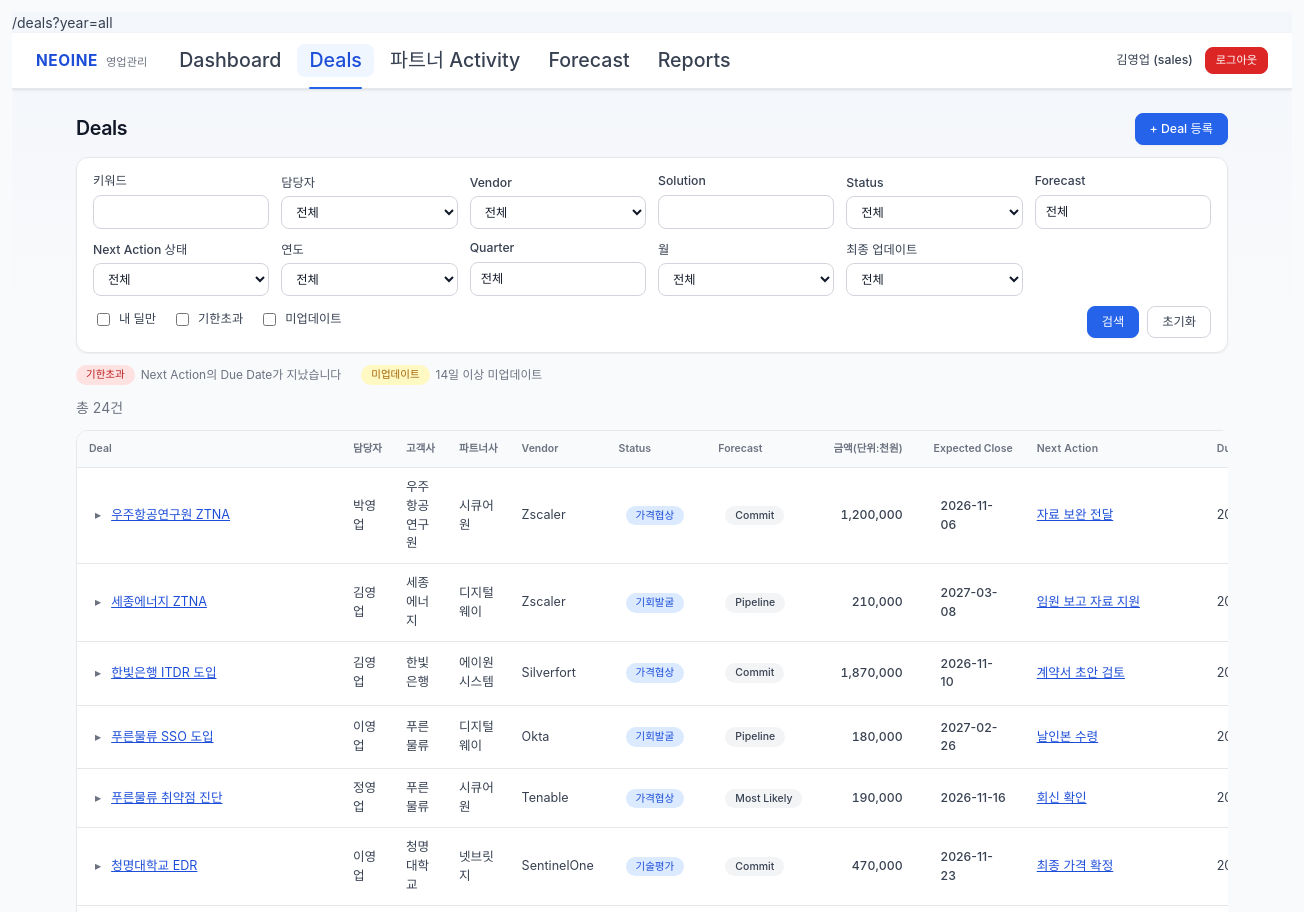
it: 필터와 정렬 (T-LIST-05~09) › filters by vendor, status and forecast
The width and height of the screenshot is (1304, 912).
Expected: the row "한빛은행 ITDR 도입" is shown, top-left (77, 642), bottom-right (1228, 706)
Step 1. Select "Silverfort" in the dropdown labelled "Vendor" → (558, 213), box top-left (470, 196), bottom-right (646, 229)
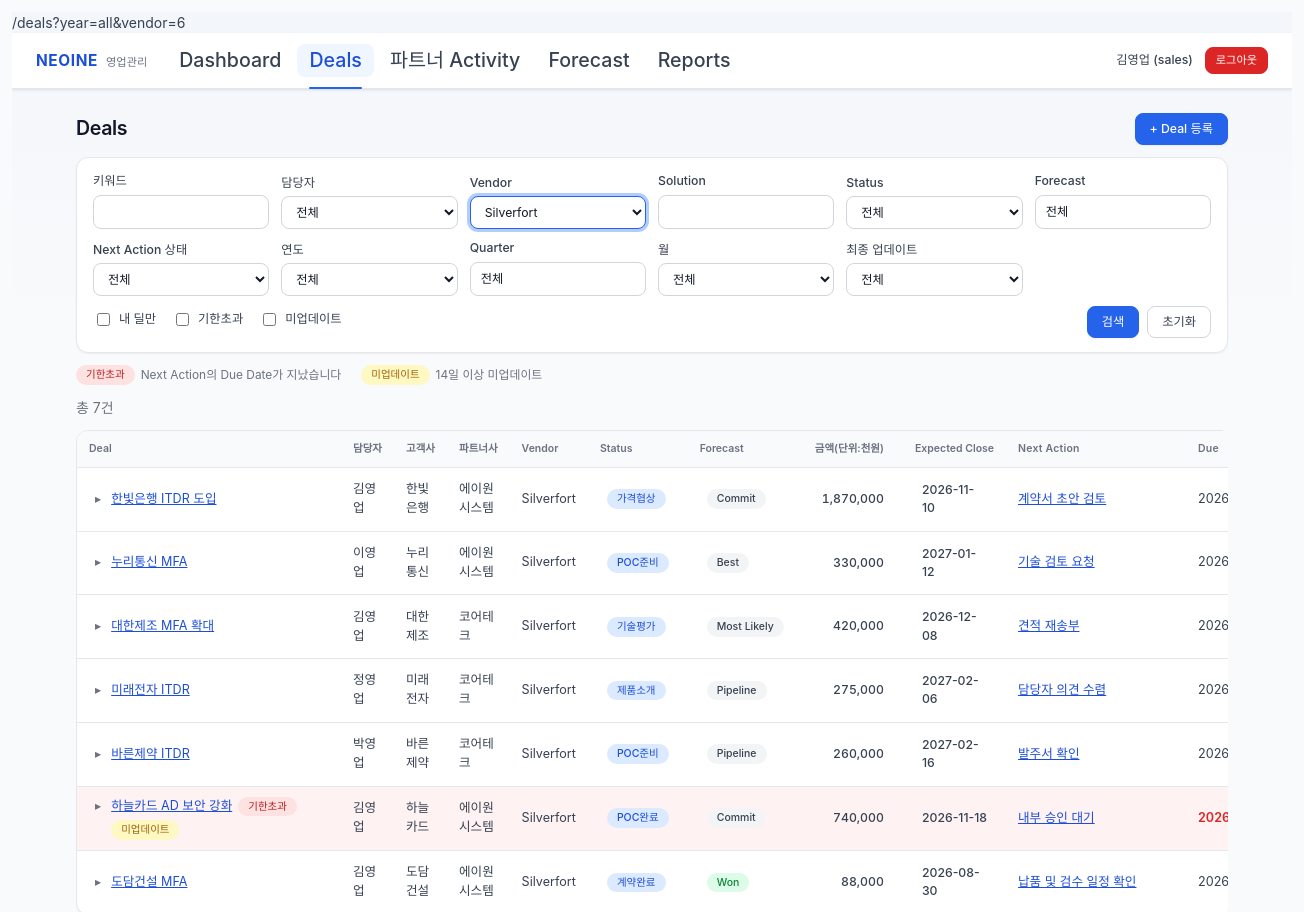
Step 2. Select "계약완료" in the dropdown labelled "Status" → (934, 213), box top-left (846, 196), bottom-right (1023, 229)
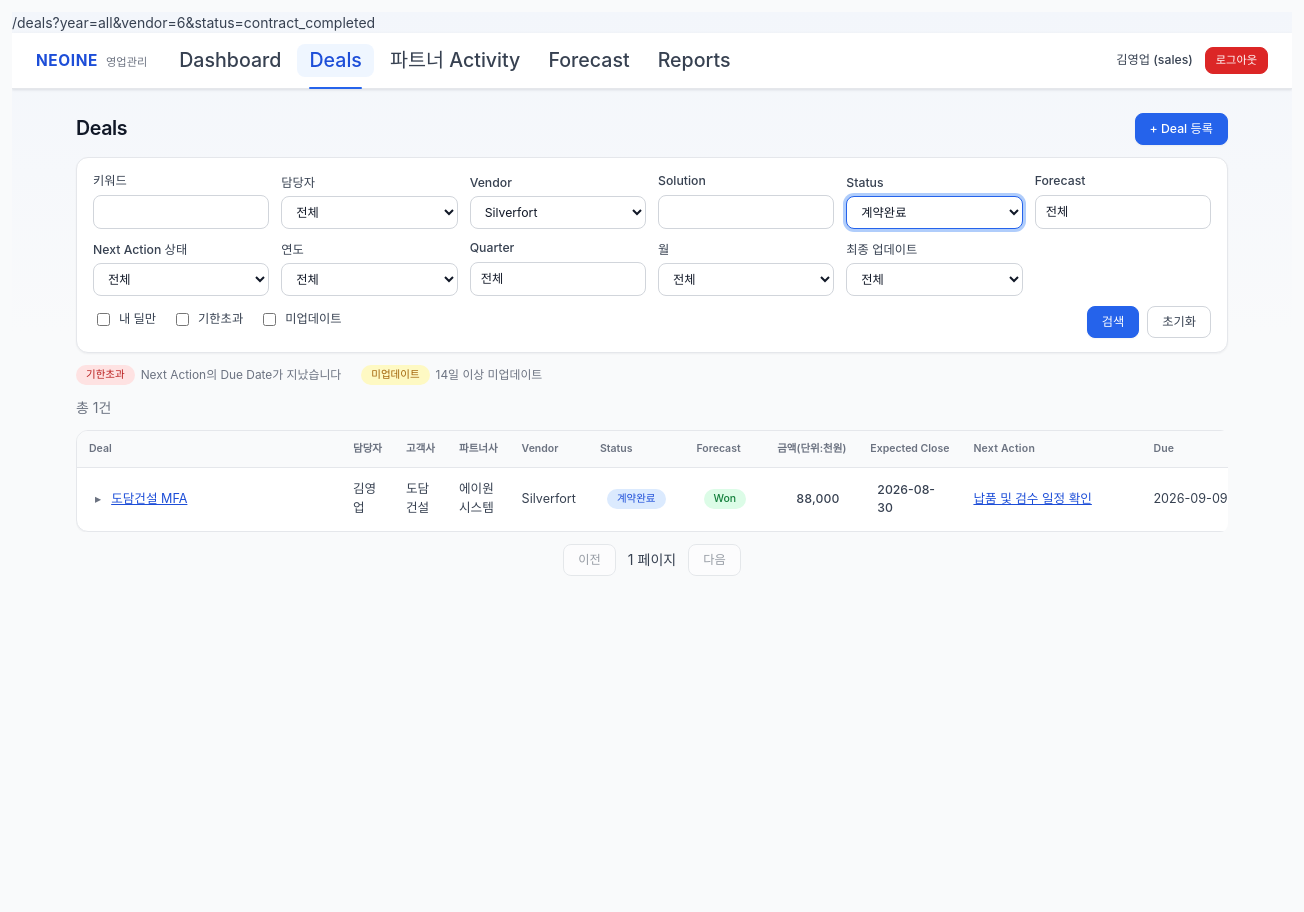
Now the link "도담건설 MFA" is shown, box top-left (111, 490), bottom-right (188, 509)
Now the text with test id "location" shows "status=contract_completed", box top-left (12, 14), bottom-right (375, 31)
Step 3. Select "전체" in the dropdown labelled "Status" → (934, 213), box top-left (846, 196), bottom-right (1023, 229)
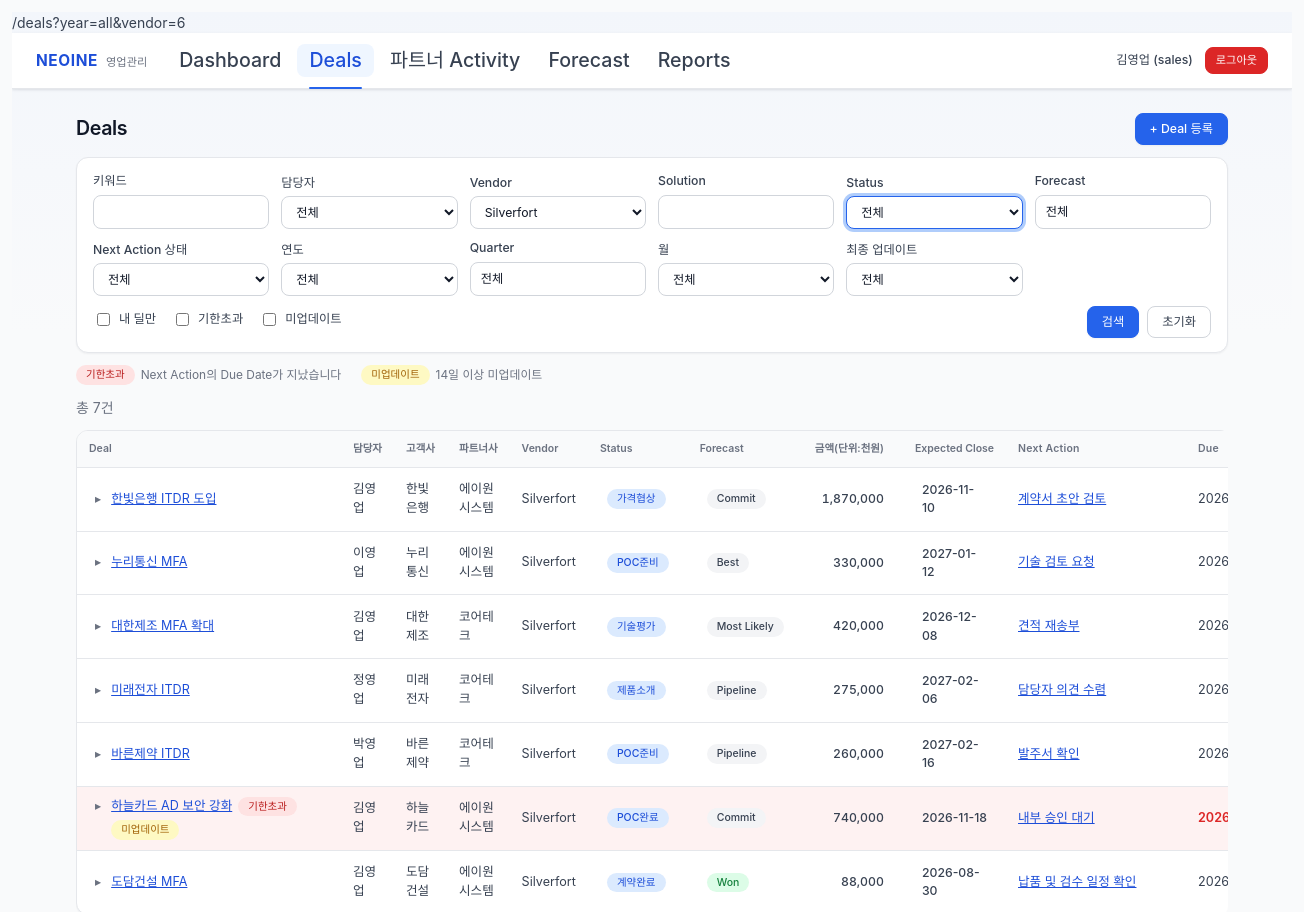
Step 4. Select "전체" in the dropdown labelled "Vendor" → (558, 213), box top-left (470, 196), bottom-right (646, 229)
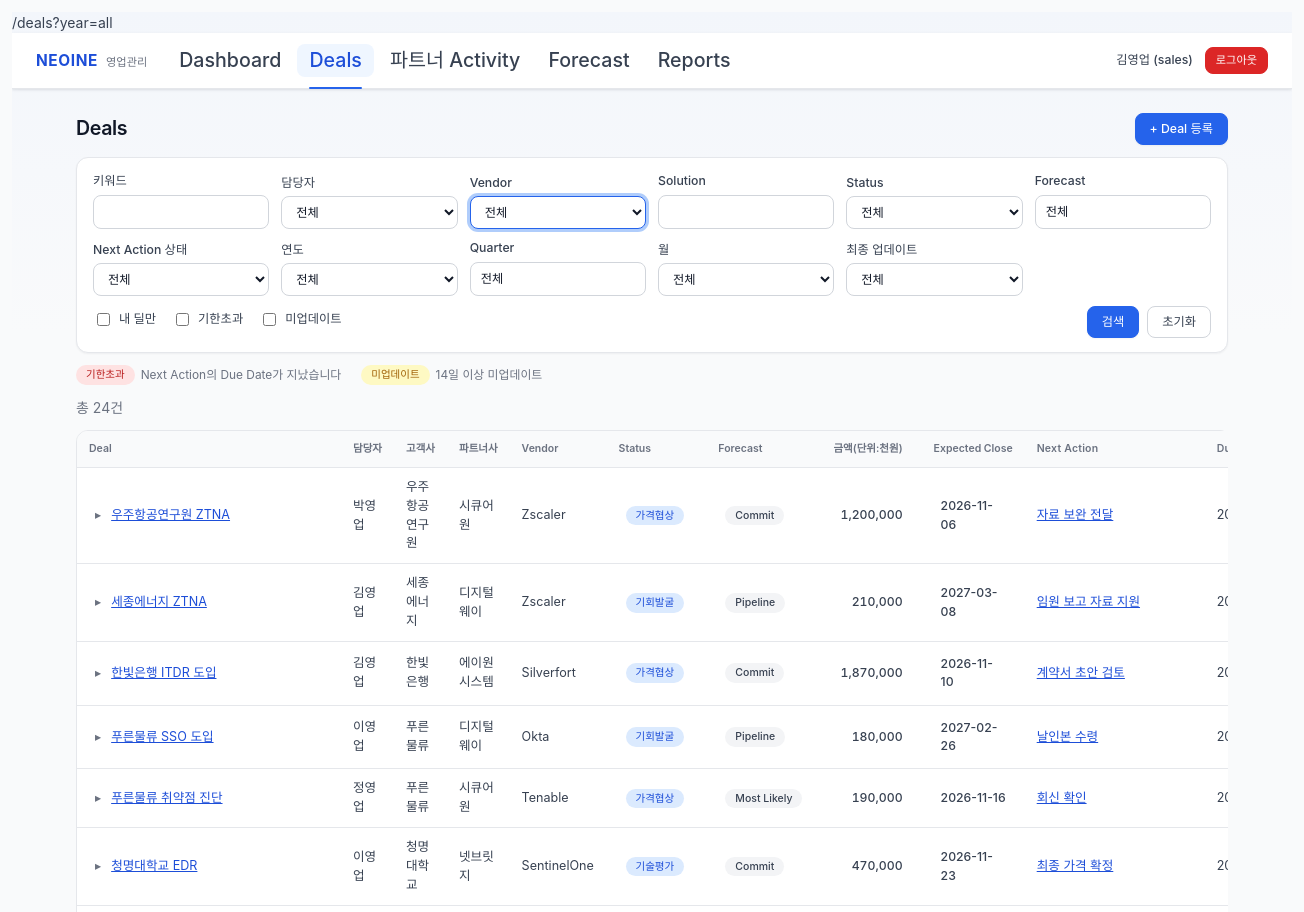
Expected: the form named "Deal 필터" is shown, top-left (76, 157), bottom-right (1228, 353)
Step 5. Click the button named "Forecast " → click(1123, 212), box top-left (1035, 195), bottom-right (1211, 229)
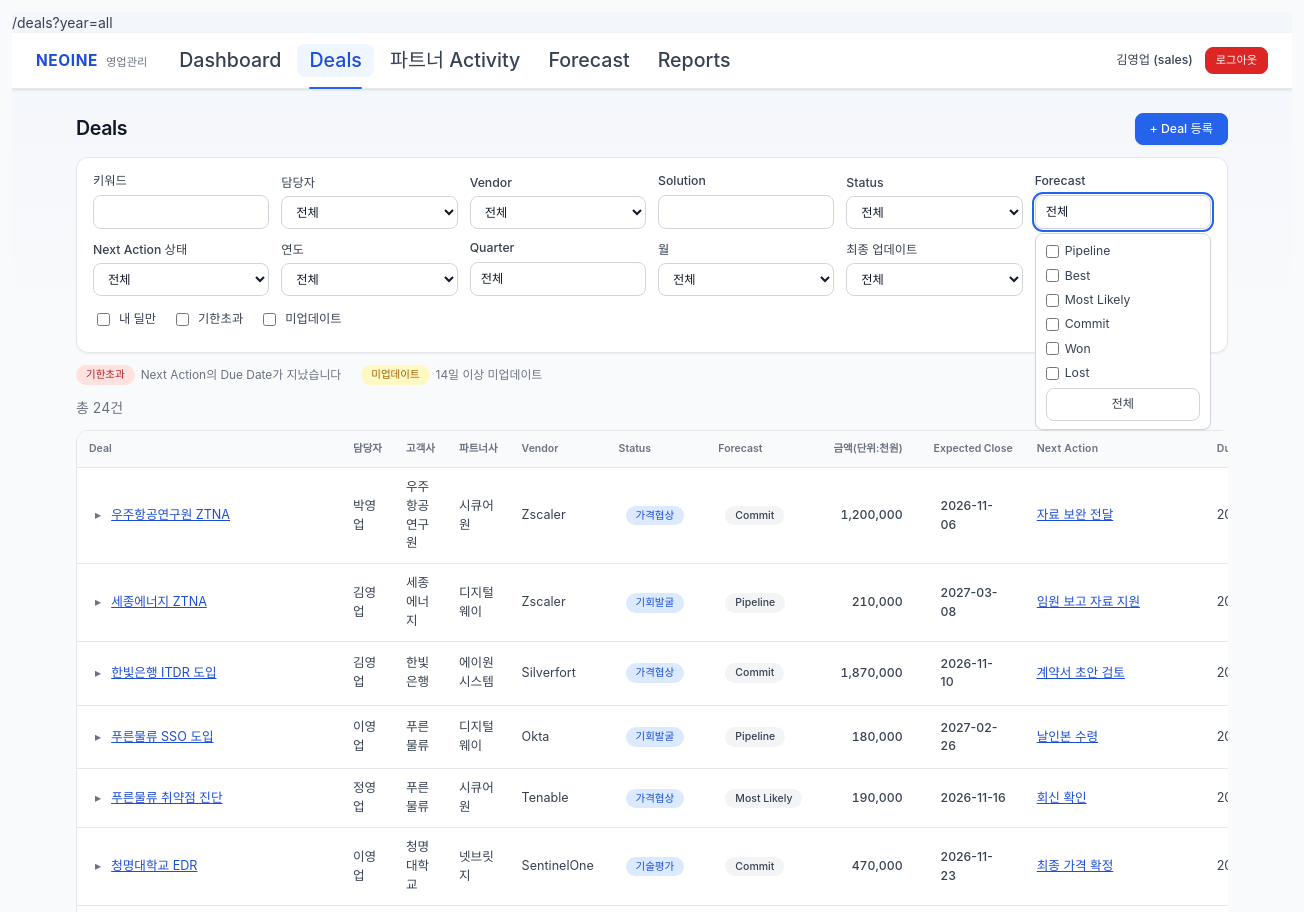
Step 6. Click the checkbox labelled "Lost" → click(1052, 373), box top-left (1046, 367), bottom-right (1059, 380)
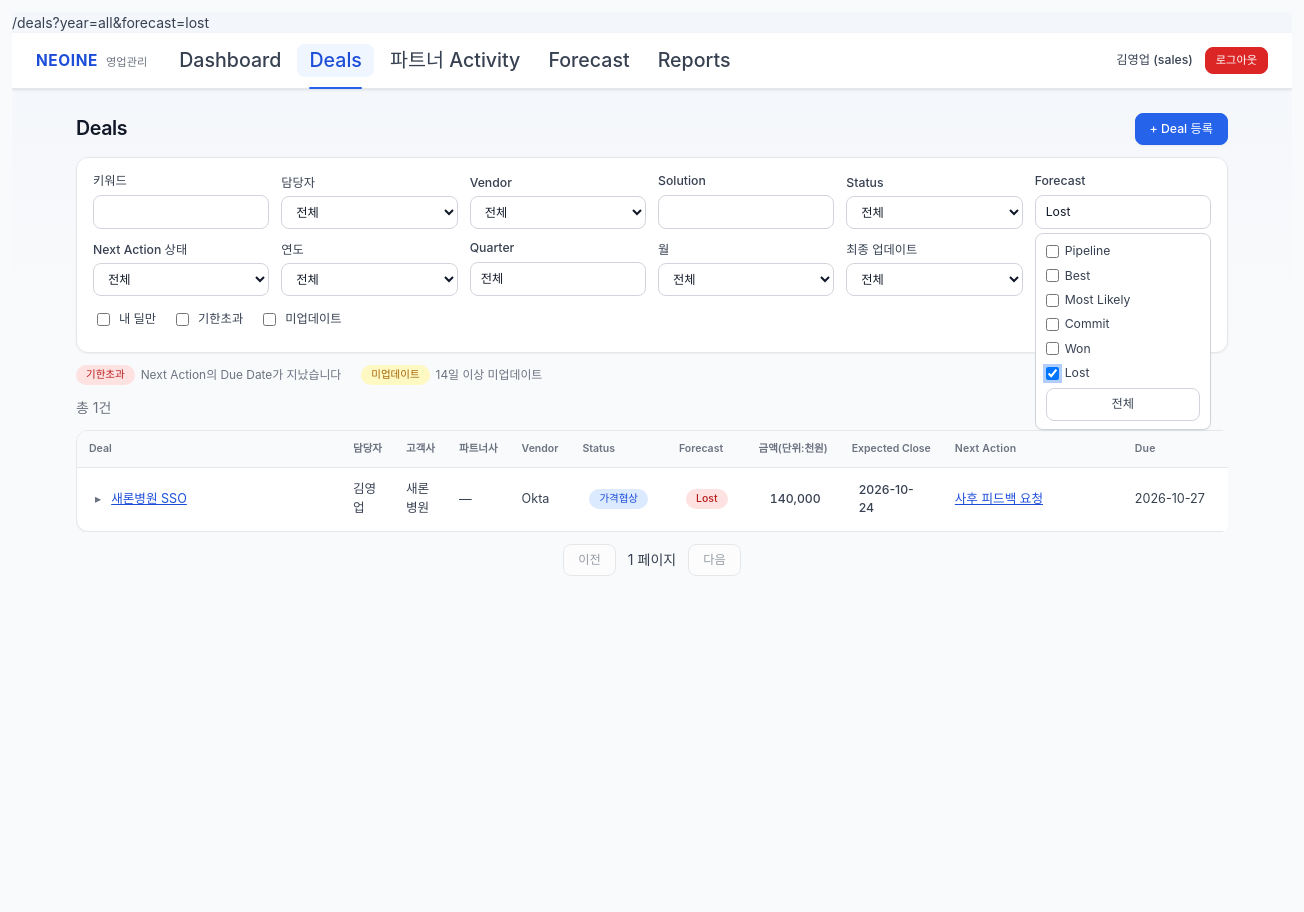
Now the row "새론병원 SSO" is shown, box top-left (77, 468), bottom-right (1228, 531)
Now the text with test id "location" shows "forecast=lost", box top-left (12, 14), bottom-right (209, 31)
